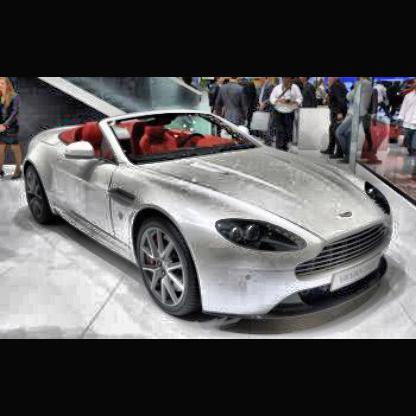Aston Martin V8 Vantage Convertible 2012: (23, 109, 396, 321)
